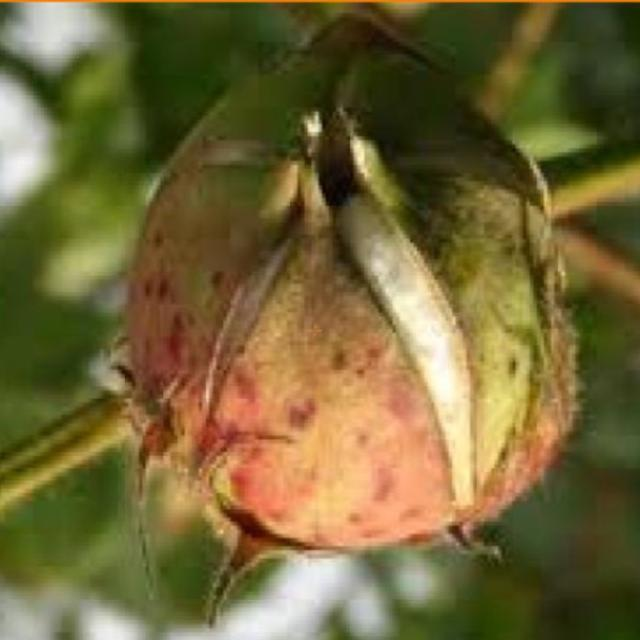Split Cotton Boll: (116, 33, 572, 566)
